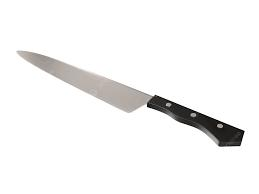Knife: (15, 49, 245, 147)
